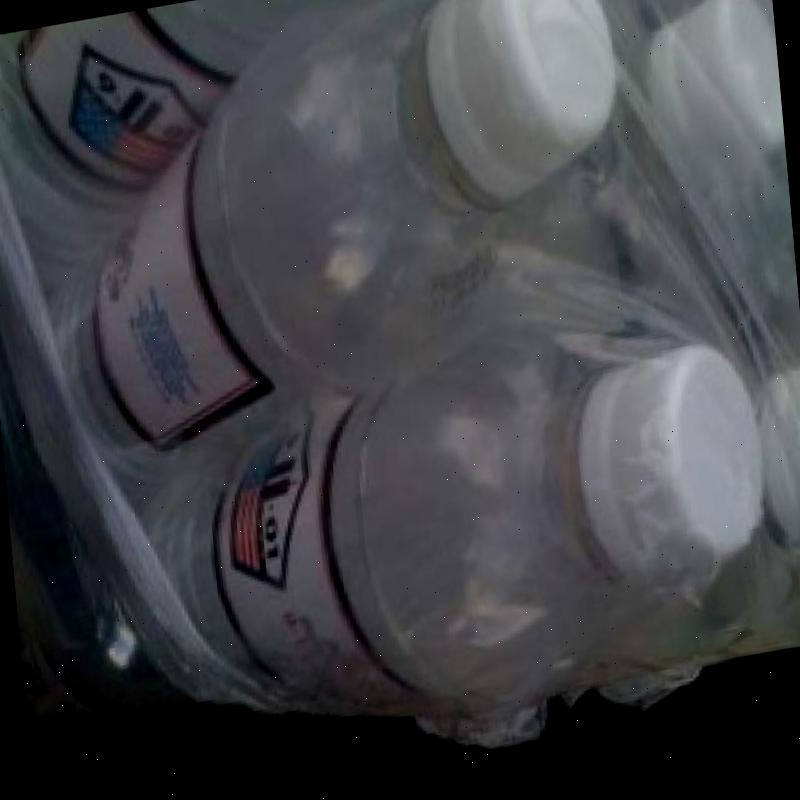botella: (31, 0, 642, 502), (136, 306, 782, 772), (0, 0, 344, 312), (633, 0, 789, 226), (752, 379, 800, 567)
